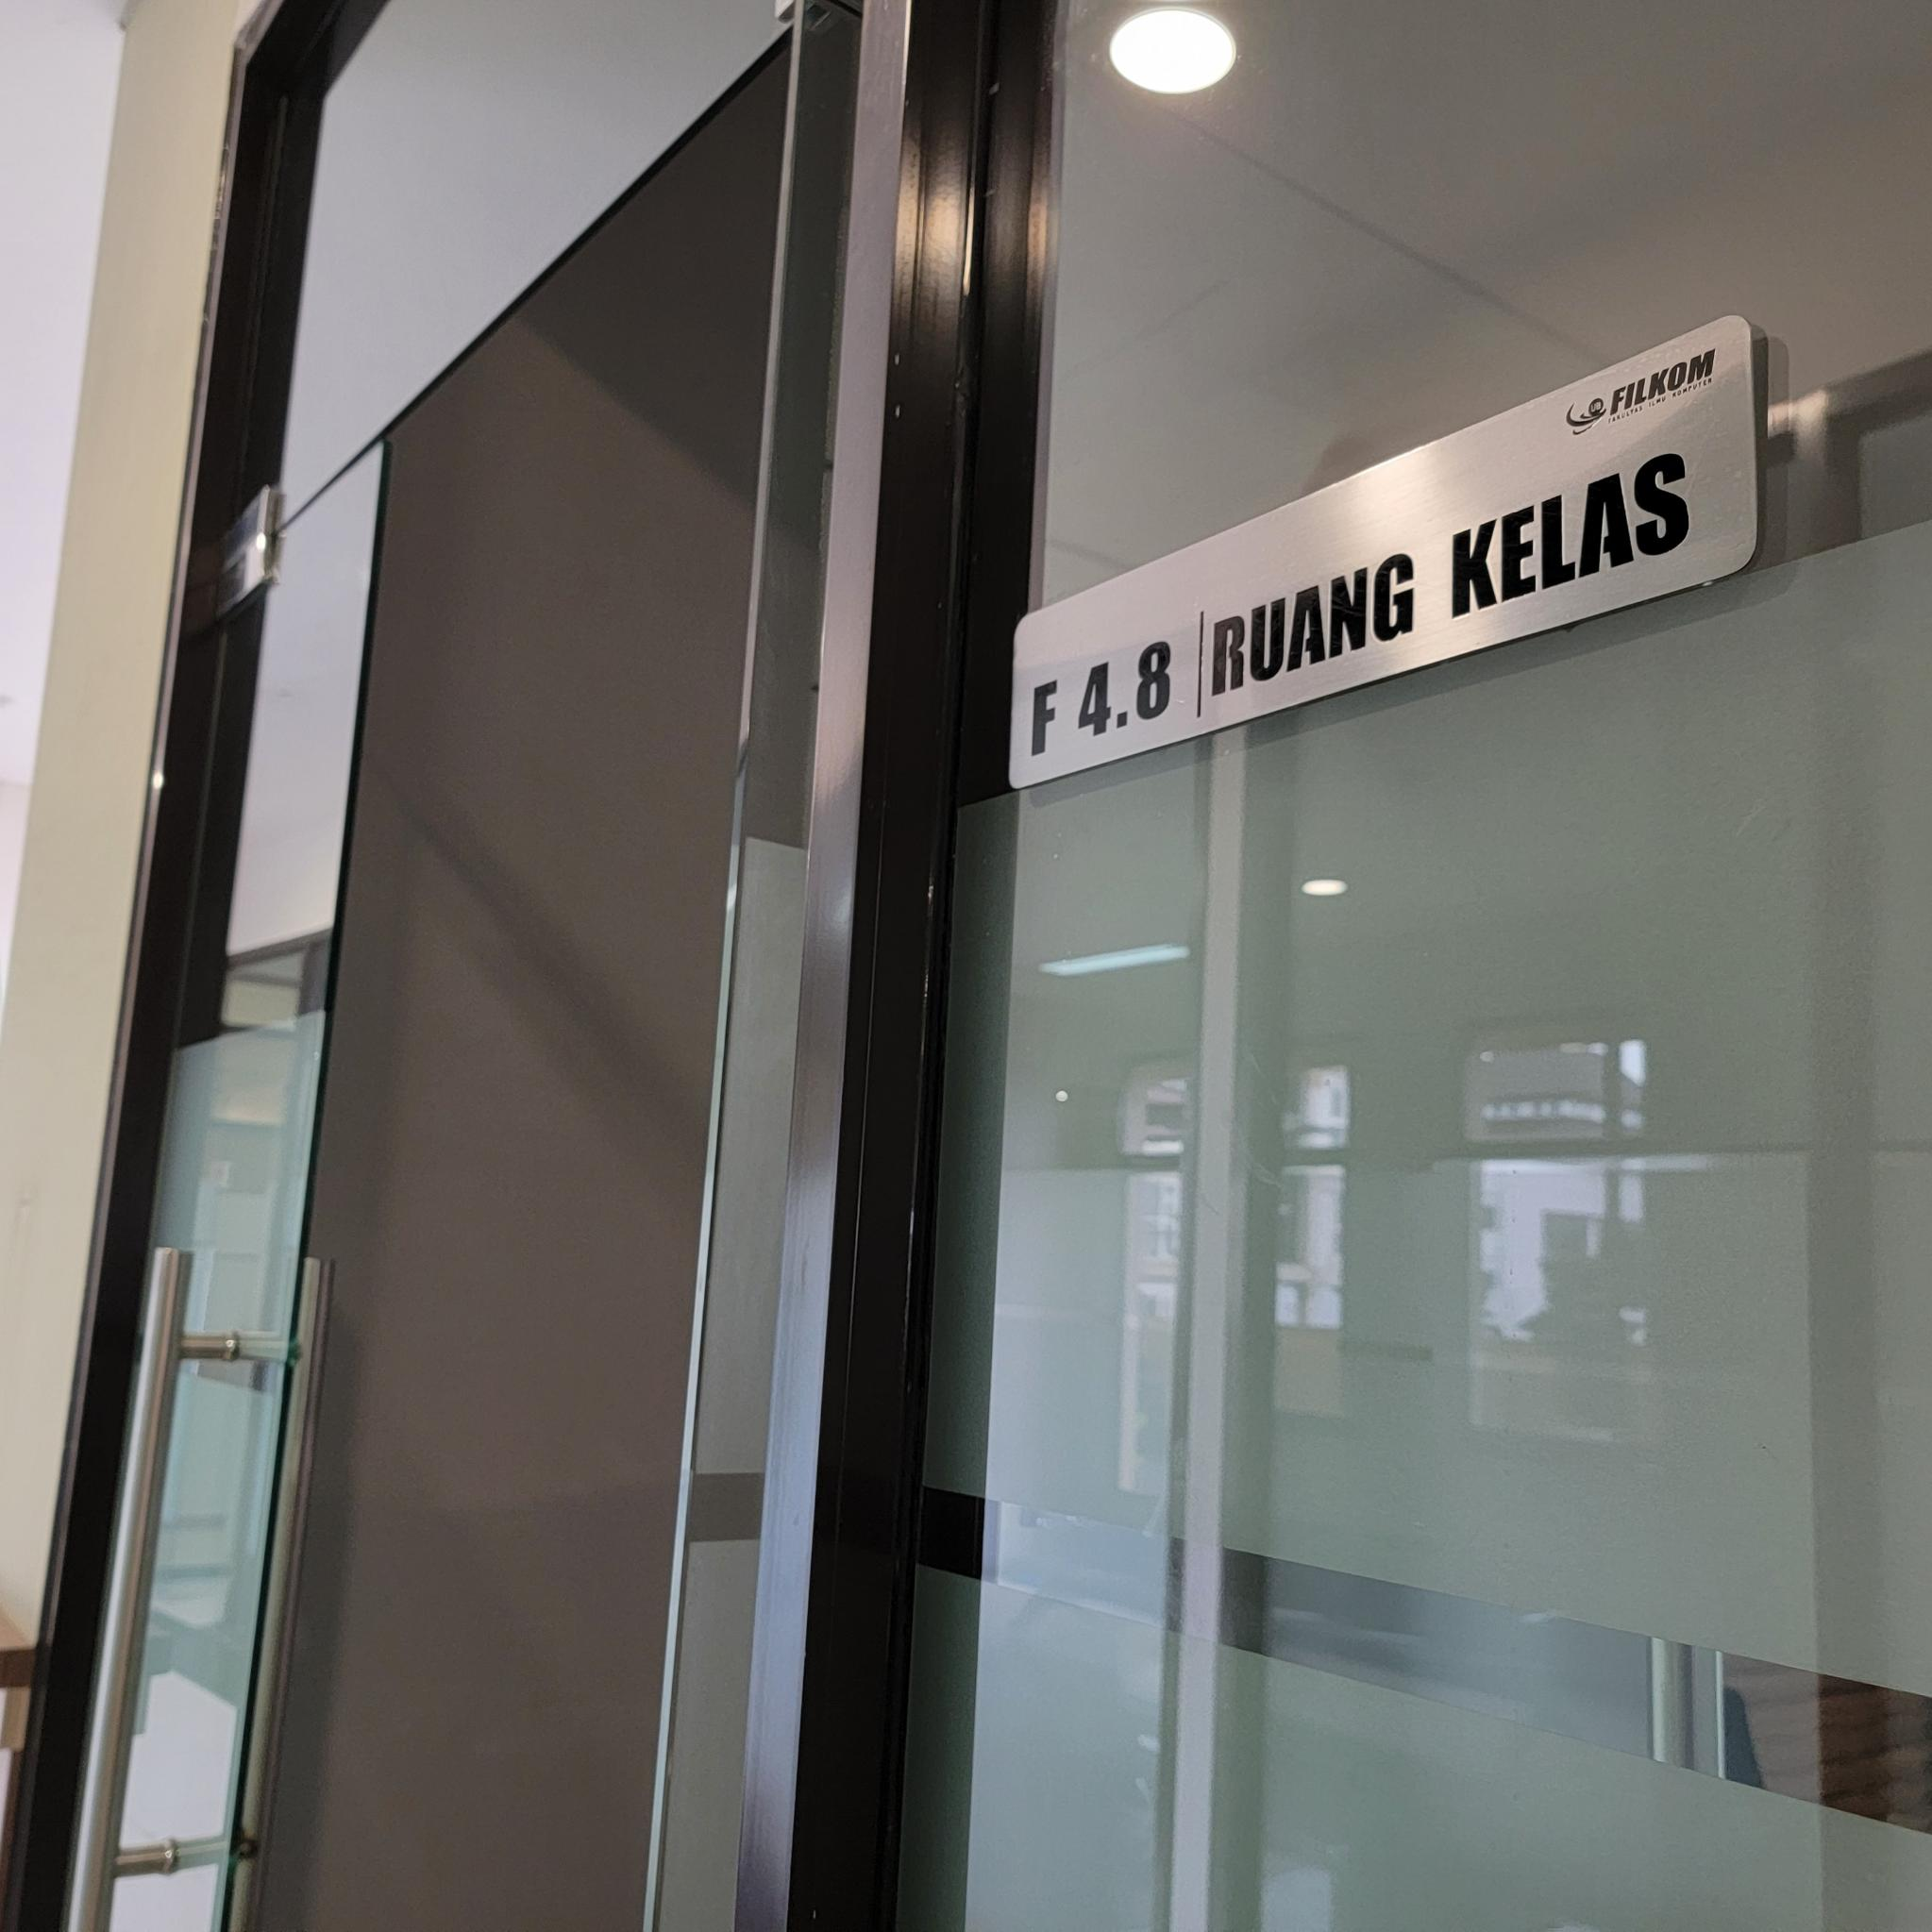plate: (1005, 313, 1759, 794)
